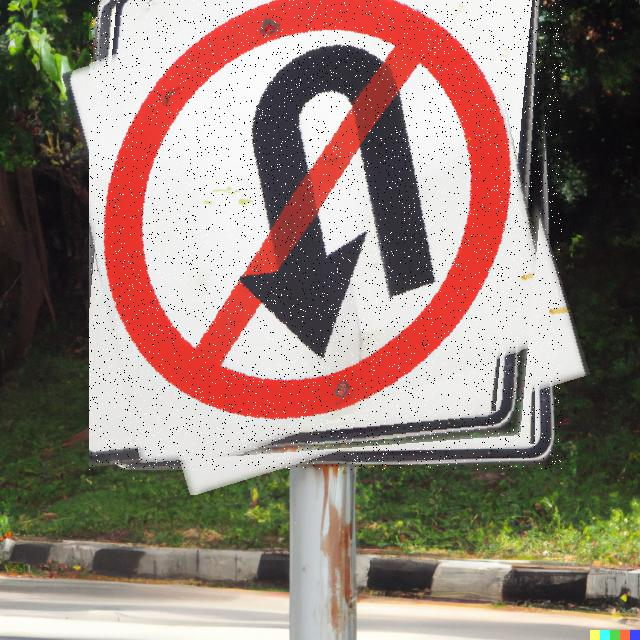no u turn: (89, 0, 562, 470)
